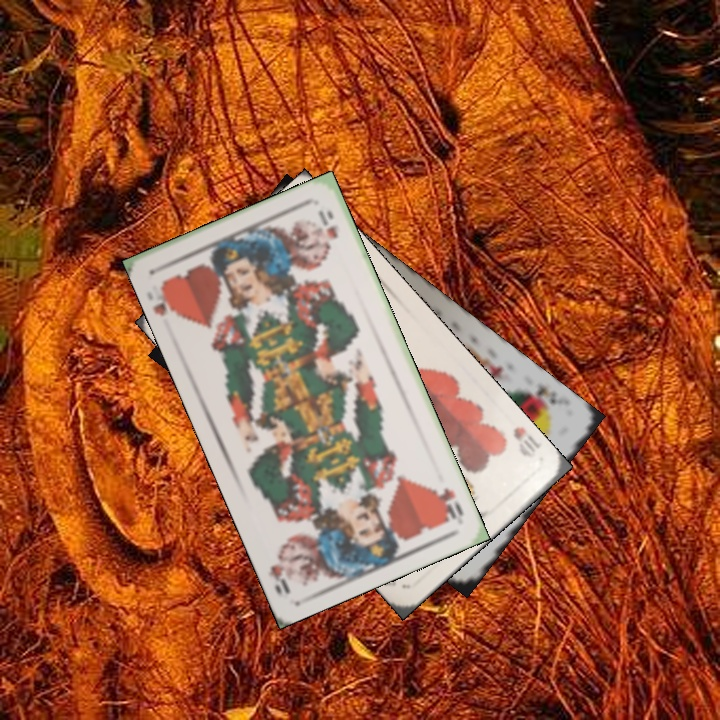H10: (509, 422, 542, 461)
HO: (430, 483, 466, 524), (149, 276, 182, 319)
SK: (531, 381, 568, 408)
